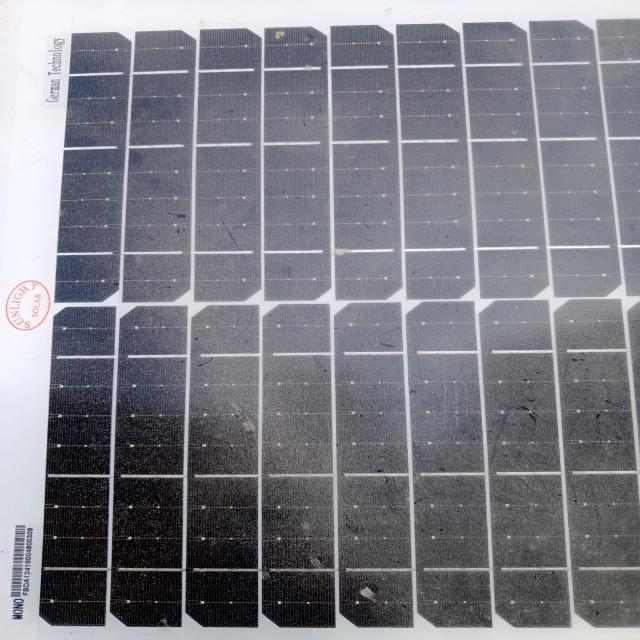Anomaly Solar Panel: (24, 17, 636, 638)
Surface Contaminant: (68, 23, 639, 628)
